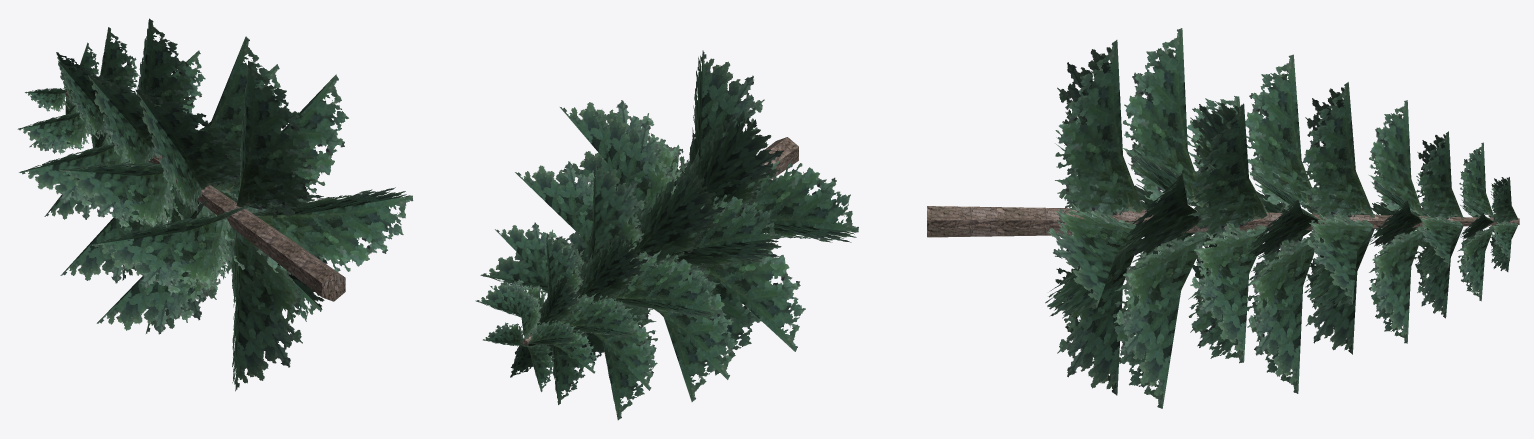
Rendered from Fir Waterpixel.fbx.
The picture shows the model from 3 angles, left to right: view 1: azimuth 30°, elevation 25°; view 2: azimuth 150°, elevation 25°; view 3: azimuth 270°, elevation 25°; orthographic projection. The views are drawn at different scales.
Visible parts, largest first — view 1: Fir; view 2: Fir; view 3: Fir.
Part boxes in pixels (x1,y1,x2,y2): Fir: (17,18,413,391); Fir: (475,50,858,420); Fir: (927,28,1519,408).
Size of the model in its own units: 2829 by 2810 by 4007.
Materials: 37 (37 with a texture image).
